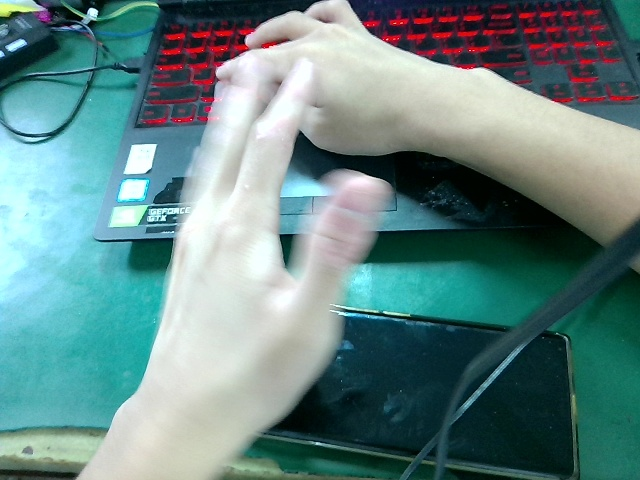paper: (119, 67, 427, 438)
